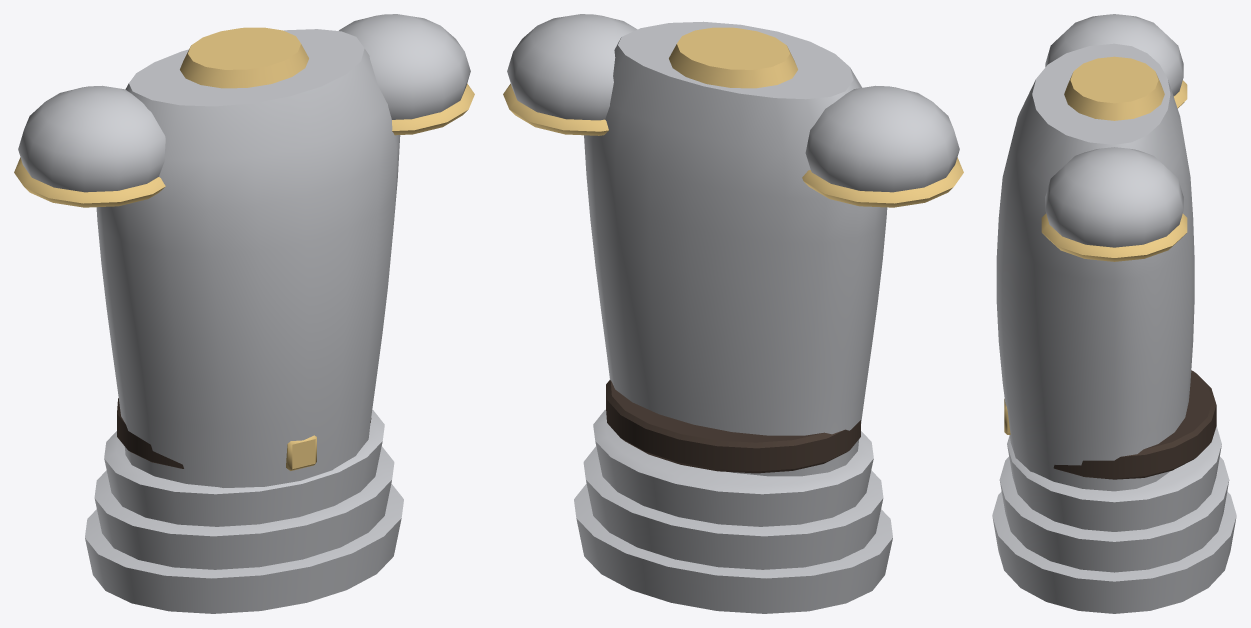
Rendered from warden_plate.glb.
The picture shows the model from 3 angles, left to right: view 1: azimuth 30°, elevation 25°; view 2: azimuth 150°, elevation 25°; view 3: azimuth 270°, elevation 25°; orthographic projection. The views are drawn at different scales.
Visible parts, largest first — view 1: warden_plate; view 2: warden_plate; view 3: warden_plate.
Part boxes in pixels (left/top/right/bottom): warden_plate: left=14, top=14, right=474, bottom=613; warden_plate: left=503, top=14, right=963, bottom=613; warden_plate: left=992, top=14, right=1236, bottom=613.
Bounding box in the file's own units: 0.5987 × 0.66 × 0.3104.
